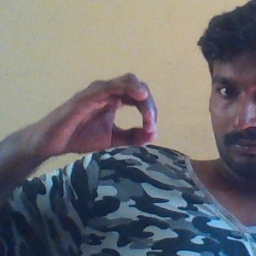O: (36, 73, 160, 156)
